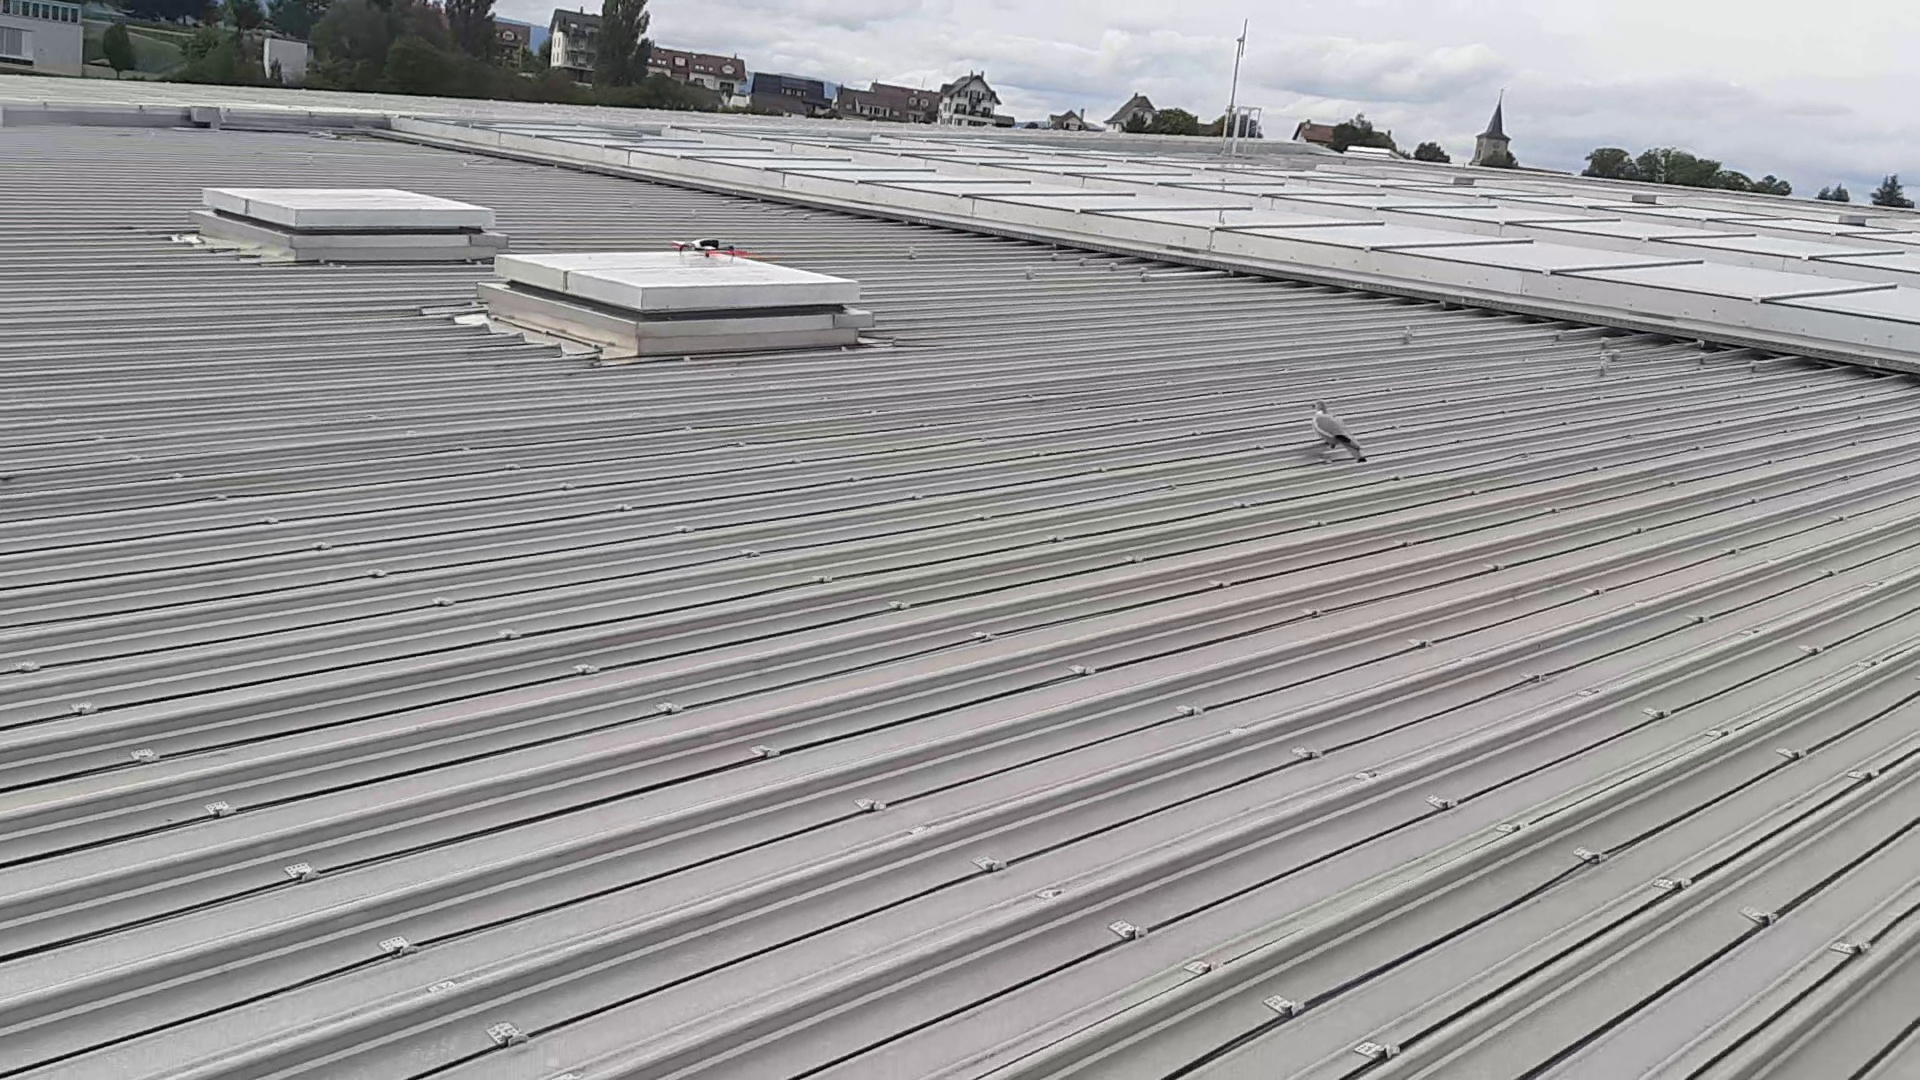Pigeon: (1302, 396, 1370, 473)
